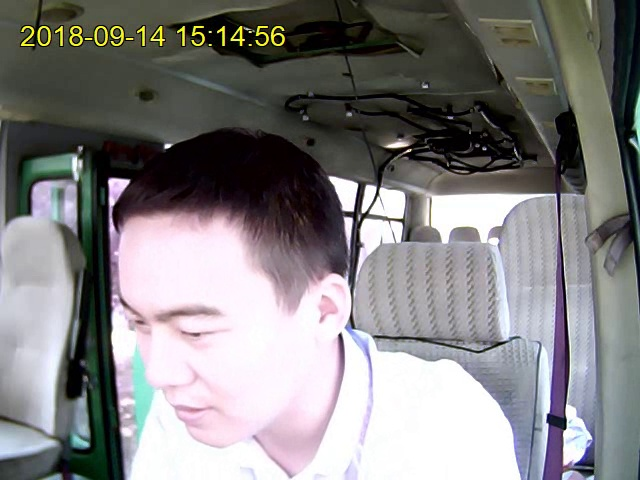closed_mouth: (167, 402, 217, 423)
